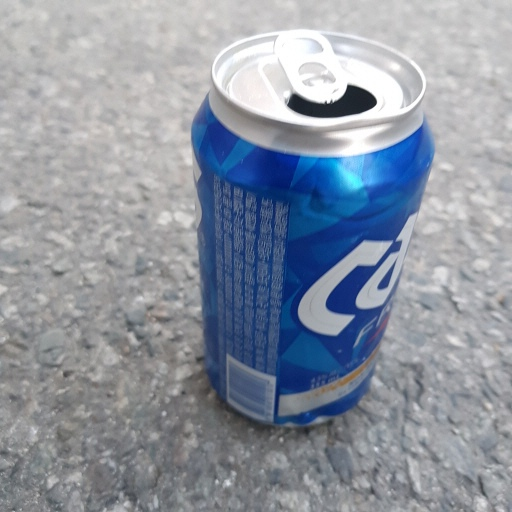Metal_0: (186, 28, 438, 432)
